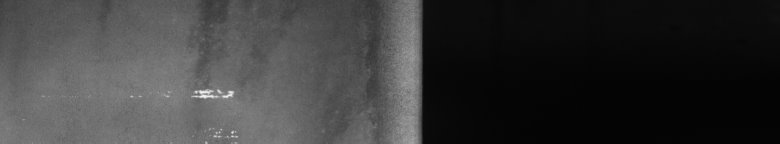hc: (130, 4, 257, 136)
